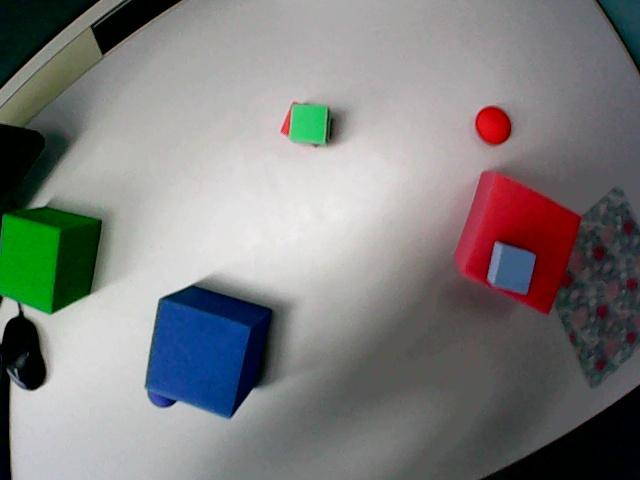blue_block: (479, 236, 539, 295)
red_block: (446, 170, 592, 316)
